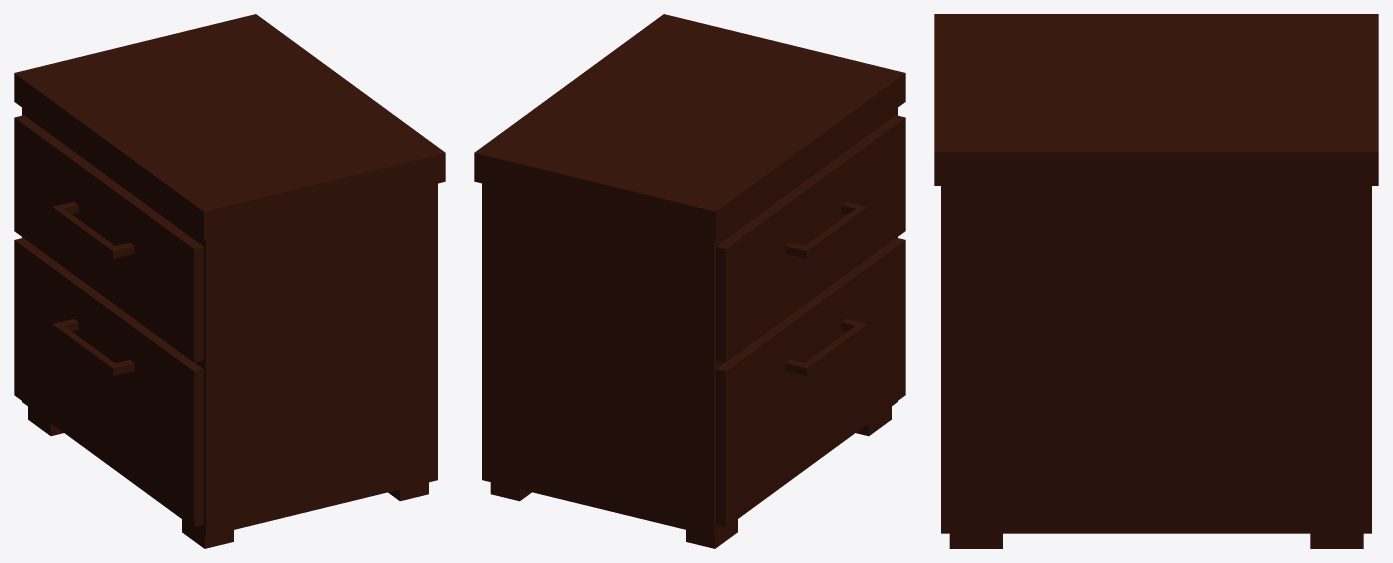
File: nachtkastje_2.fbx
The picture shows the model from 3 angles, left to right: view 1: azimuth 30°, elevation 25°; view 2: azimuth 150°, elevation 25°; view 3: azimuth 270°, elevation 25°; orthographic projection. The views are drawn at different scales.
Parts seen in each view (by area): view 1: nachtkastje_2; view 2: nachtkastje_2; view 3: nachtkastje_2.
Boxes of the visible parts, x1=… form: nachtkastje_2: x1=14, y1=14, x2=445, y2=548; nachtkastje_2: x1=474, y1=14, x2=905, y2=548; nachtkastje_2: x1=934, y1=14, x2=1378, y2=548.
Size of the model in its own units: 70.6 by 86.44 by 86.5.
